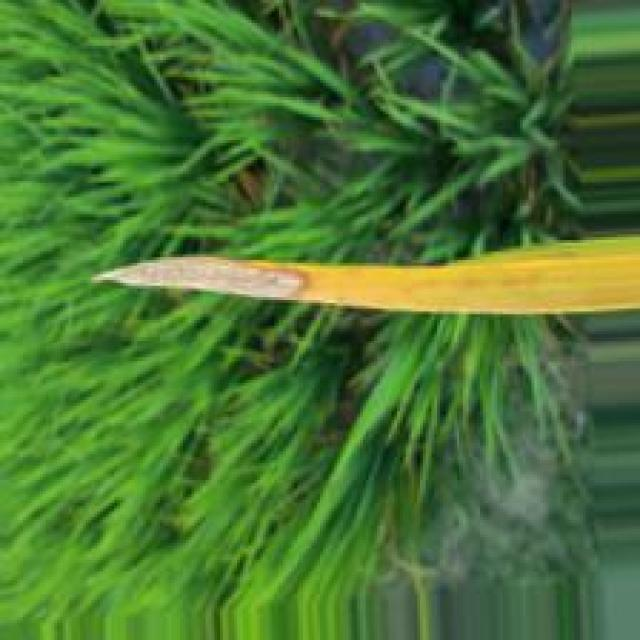Rice False Smut: (103, 258, 314, 304)
